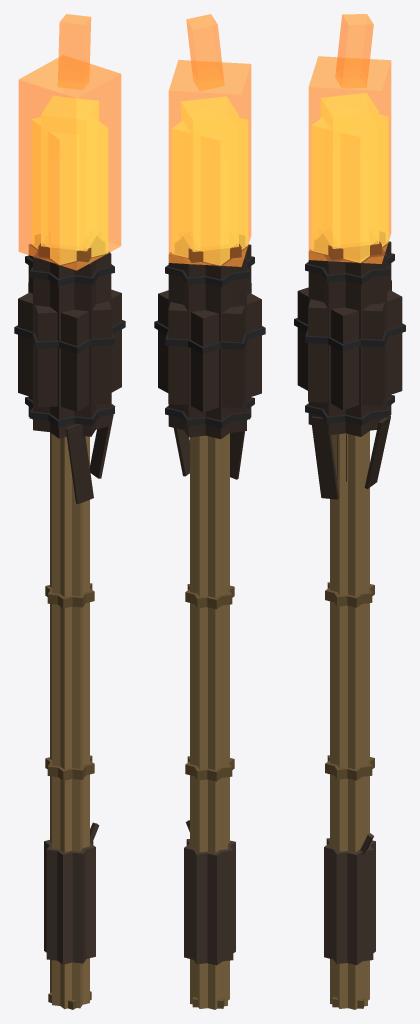
Rendered from moshal_handheld.glb.
The picture shows the model from 3 angles, left to right: view 1: azimuth 30°, elevation 25°; view 2: azimuth 150°, elevation 25°; view 3: azimuth 330°, elevation 25°; orthographic projection.
Parts seen in each view (by area): view 1: Moshal, Flame; view 2: Moshal, Flame; view 3: Moshal, Flame.
Boxes of the visible parts, box(x1,y1,x2,y2) form: Moshal: box(14, 243, 125, 1009); Flame: box(18, 14, 121, 270); Moshal: box(154, 243, 265, 1009); Flame: box(168, 14, 251, 266); Moshal: box(294, 241, 405, 1009); Flame: box(308, 14, 391, 263).
Bounding box in the file's own units: 0.1202 × 1.25 × 0.1202.
